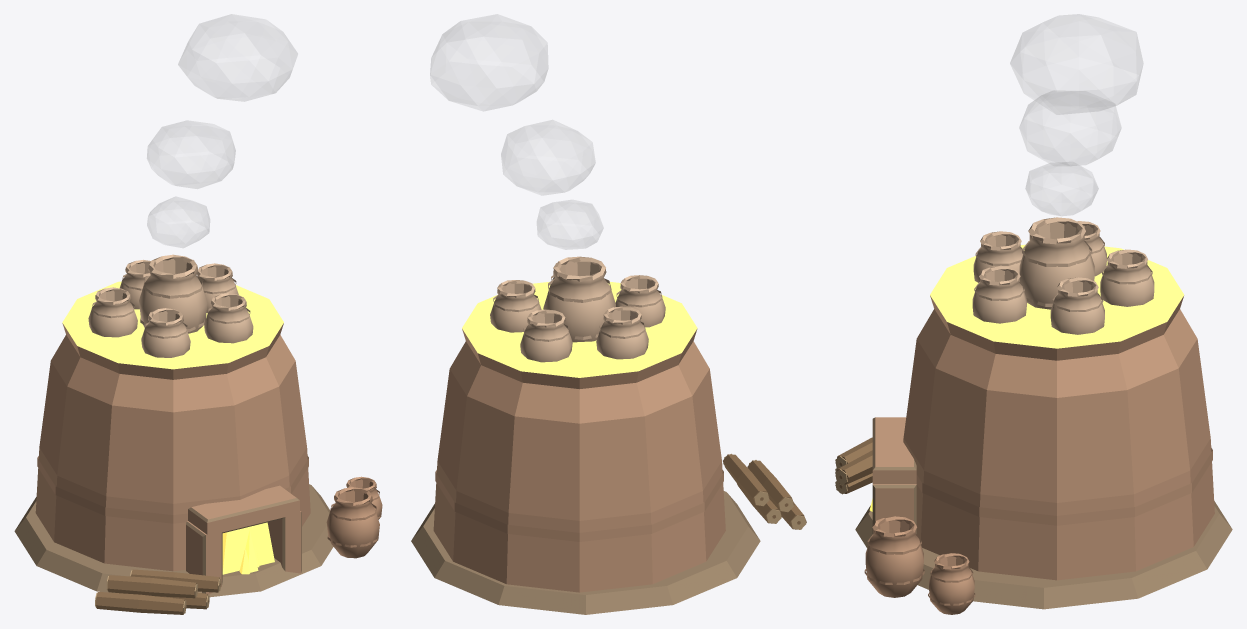
Rendered from w3d_kiln_working.glb.
3 views of the same model, side by side, from view 1: azimuth 30°, elevation 25°; view 2: azimuth 150°, elevation 25°; view 3: azimuth 270°, elevation 25° (orthographic). The views are drawn at different scales.
Visible parts, largest first — view 1: w3d_kiln_working; view 2: w3d_kiln_working; view 3: w3d_kiln_working.
Part boxes in pixels (box(x1,y1,x2,y2)): w3d_kiln_working: box(14, 14, 382, 614); w3d_kiln_working: box(411, 14, 806, 614); w3d_kiln_working: box(835, 14, 1232, 614).
Size of the model in its own units: 1.85 by 2.77 by 1.81.
